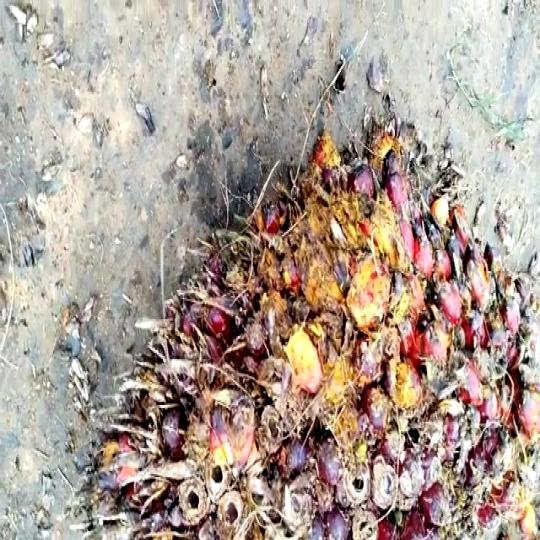masak: (81, 125, 536, 540)
